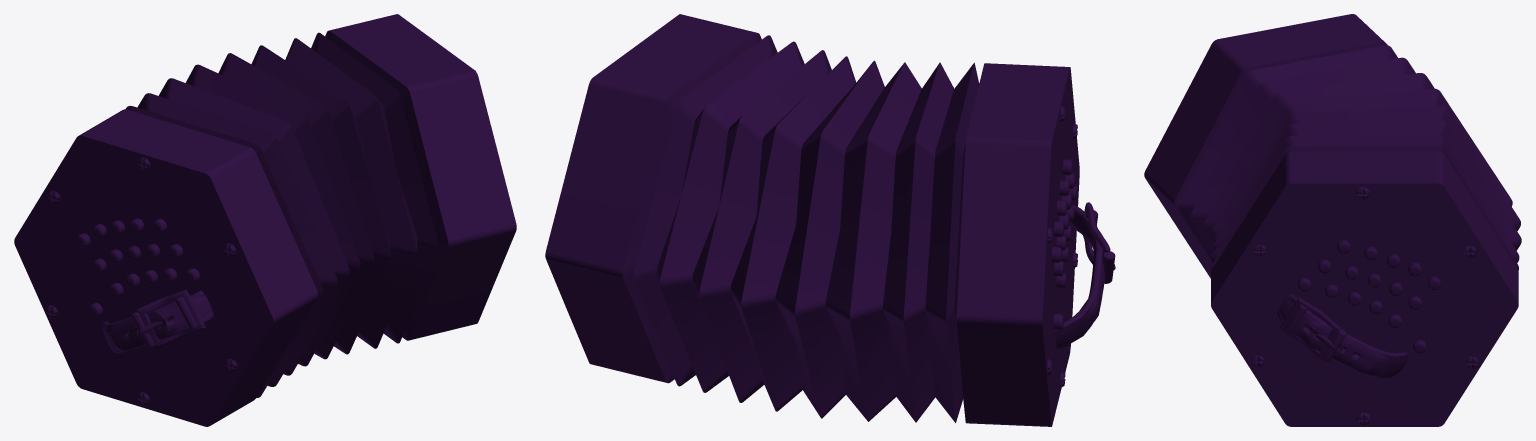
File: cage01.obj
3 views of the same model, side by side, from view 1: azimuth 30°, elevation 25°; view 2: azimuth 150°, elevation 25°; view 3: azimuth 270°, elevation 25° (orthographic). The views are drawn at different scales.
Visible parts, largest first — view 1: polySurface270, screwHighPoly:polySurface170 screwHighPoly:polySurface314 polySu; view 2: polySurface270; view 3: polySurface270, screwHighPoly:polySurface170 screwHighPoly:polySurface314 polySu.
Boxes of the visible parts, bbox=[...] form: polySurface270: bbox=[14, 14, 516, 426]; screwHighPoly:polySurface170 screwHighPoly:polySurface314 polySu: bbox=[46, 157, 237, 405]; polySurface270: bbox=[545, 14, 1115, 426]; polySurface270: bbox=[1144, 14, 1521, 426]; screwHighPoly:polySurface170 screwHighPoly:polySurface314 polySu: bbox=[1251, 187, 1478, 425].
Bounding box in the file's own units: 12.52 × 7.02 × 9.83.
